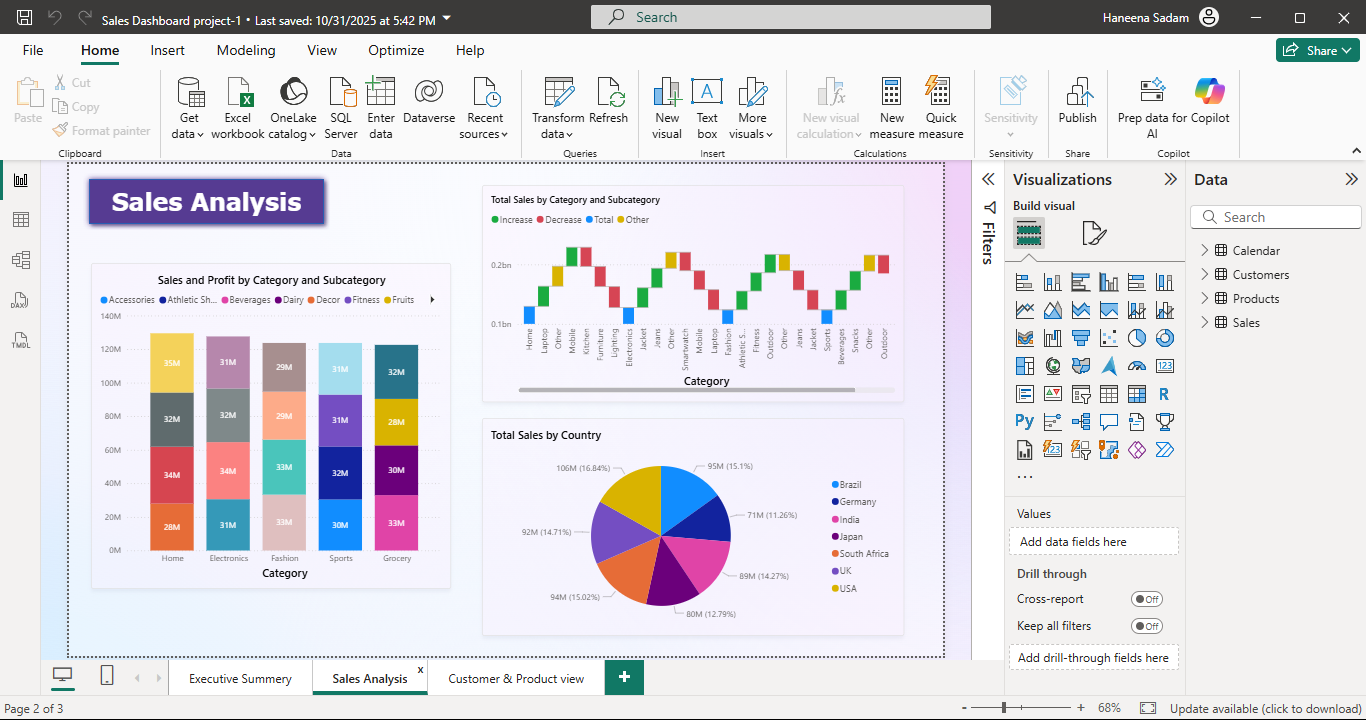

The page's visual inventory and layout, read from the dashboard file:
{"tool":"powerbi","page":{"name":"Sales Analysis","canvas":[1280,720],"ordinal":1},"visuals":[{"type":"pieChart","fields":{"Y":["Sales.Total Sales"],"Series":["Customers.Country"]},"box":[604.4,371.7,617.6,319],"z":0},{"type":"shape","box":[20.5,13.2,361.5,83.4],"z":1000},{"type":"columnChart","title":"Sales and Profit by Category and Subcategory","fields":{"Category":["Products.Category"],"Series":["Products.Subcategory"],"Y":["Sum(Sales.Sales (₹))"]},"box":[32.2,144.9,526.8,477.1],"z":2000},{"type":"waterfallChart","fields":{"Category":["Products.Category"],"Breakdown":["Products.Subcategory"],"Y":["Sales.Total Sales"]},"box":[604.4,30.7,617.6,317.6],"z":3000}]}

Visuals, with their boxes on the page's 1280x720 design canvas (x1, y1, x2, y2). These are canvas units, not pixel positions in the 1366x720 screenshot, which may show the page scaled, cropped or inside an application window:
pieChart - Sales.Total Sales x Customers.Country: BBox(604, 372, 1222, 691)
shape: BBox(20, 13, 382, 97)
"Sales and Profit by Category and Subcategory" columnChart: BBox(32, 145, 559, 622)
waterfallChart - Products.Category x Products.Subcategory: BBox(604, 31, 1222, 348)
